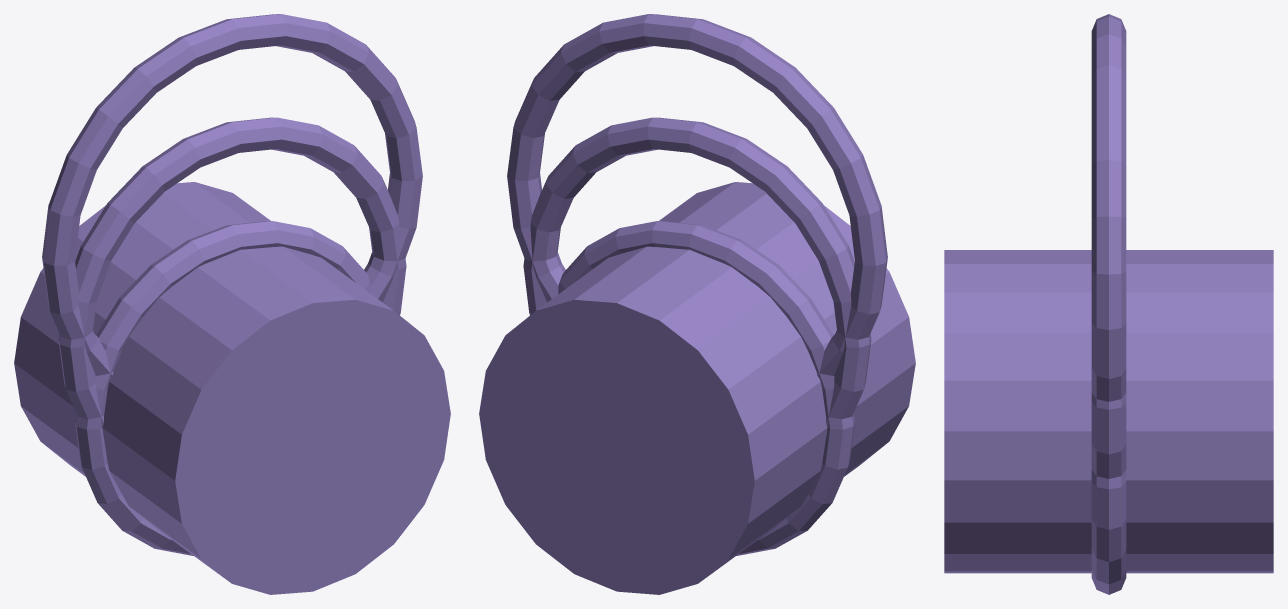
Rendered from luxury_196.glb.
The picture shows the model from 3 angles, left to right: view 1: azimuth 30°, elevation 25°; view 2: azimuth 150°, elevation 25°; view 3: azimuth 270°, elevation 25°; orthographic projection. The views are drawn at different scales.
Visible parts, largest first — view 1: world; view 2: world; view 3: world.
Part boxes in pixels (x1=…): world: x1=14, y1=14, x2=450, y2=594; world: x1=479, y1=14, x2=915, y2=594; world: x1=944, y1=14, x2=1273, y2=594.
Bounding box in the file's own units: 1.15 × 1.55 × 0.85.
